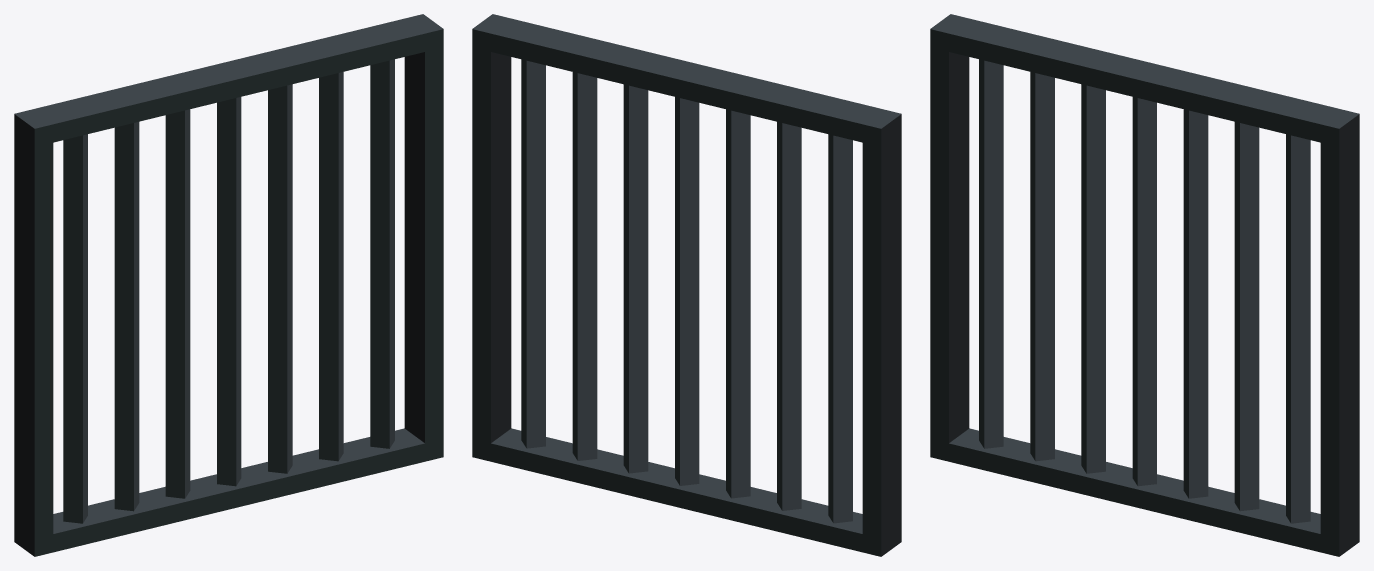
The model's file is jail_bars_double.fbx.
The picture shows the model from 3 angles, left to right: view 1: azimuth 30°, elevation 25°; view 2: azimuth 150°, elevation 25°; view 3: azimuth 330°, elevation 25°; orthographic projection.
Visible parts, largest first — view 1: jail_bars_double; view 2: jail_bars_double; view 3: jail_bars_double.
Part boxes in pixels (x1,y1,x2,y2): jail_bars_double: (14, 14, 443, 556); jail_bars_double: (472, 14, 901, 556); jail_bars_double: (930, 14, 1359, 556).
Size of the model in its own units: 200 by 200 by 17.42.
